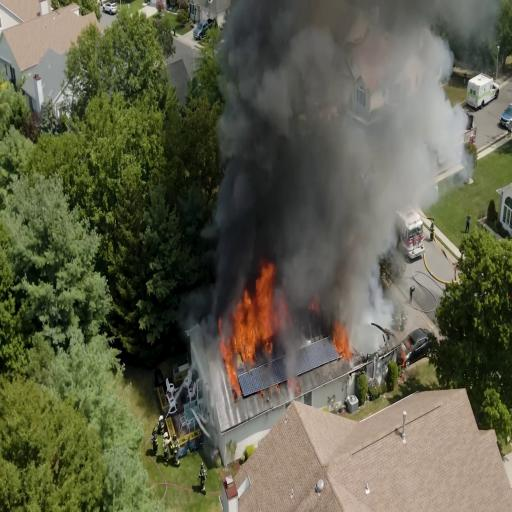fire: (210, 271, 292, 375)
smoke: (201, 25, 334, 241), (330, 96, 374, 315)
